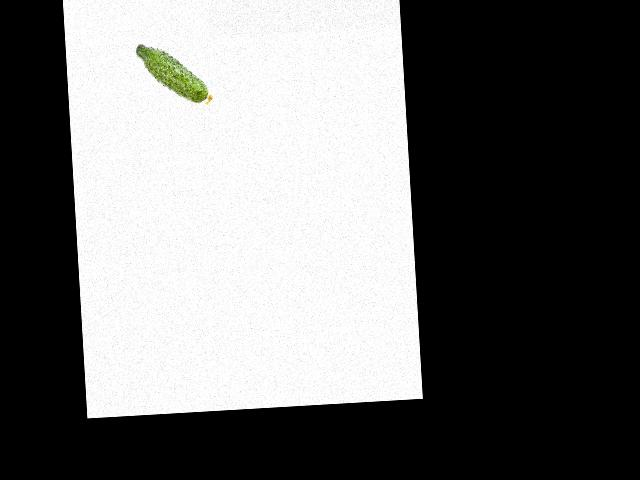cucumber: (136, 39, 213, 107)
